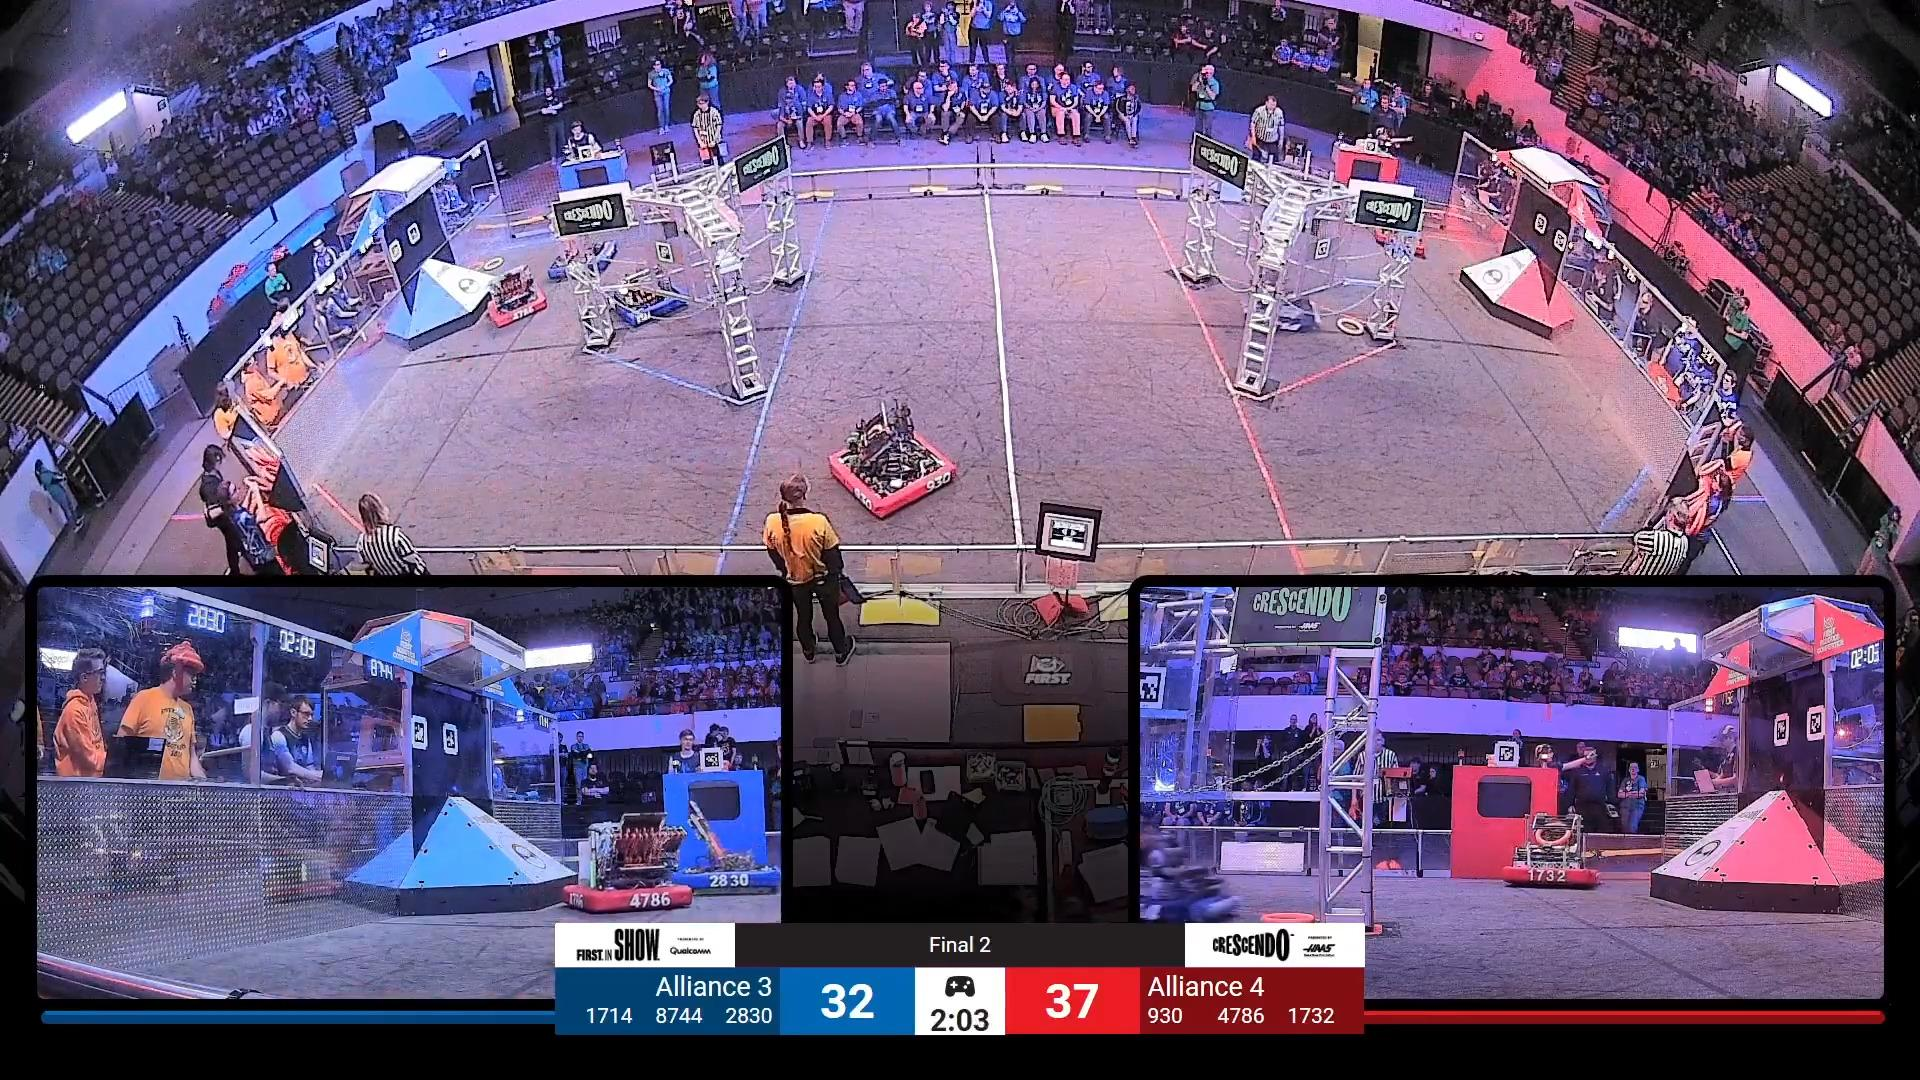robot: (829, 398, 959, 517), (560, 818, 691, 910), (667, 802, 779, 890), (1502, 811, 1606, 893), (607, 264, 690, 324), (1247, 278, 1329, 334), (487, 262, 549, 328), (546, 235, 616, 280), (1375, 223, 1427, 256)
